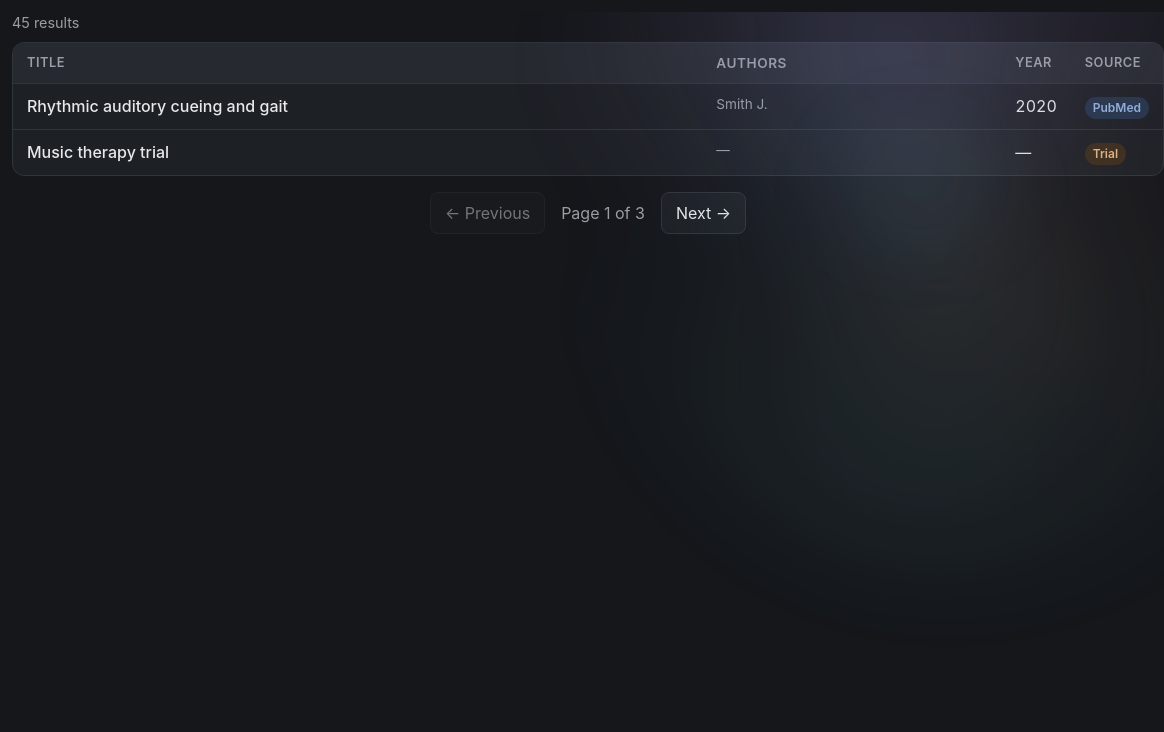
Test: EvidenceTable › expands a row to show the abstract and details
Check: the text "Metronome at 110% of cadence." is not shown
Click the button "Rhythmic auditory cueing and gait".
click(158, 106)  # box [27,94,288,118]
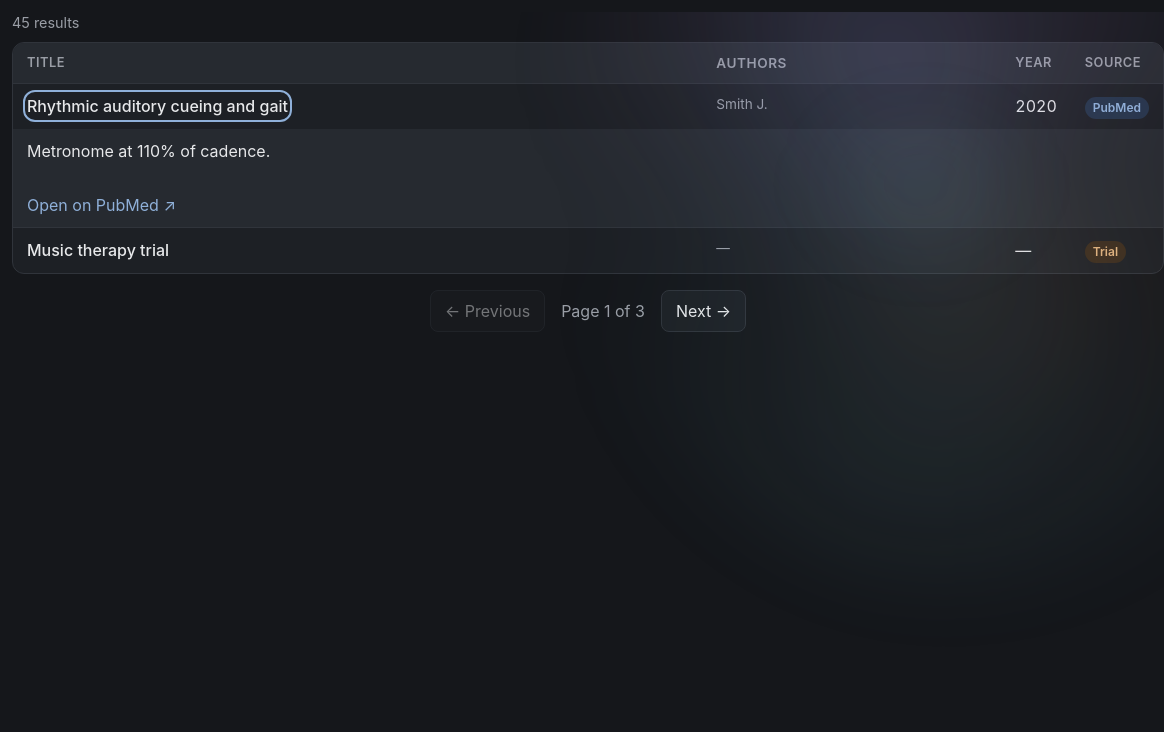
Check: the text "Metronome at 110% of cadence." is shown, box [27,141,270,161]
Click the button "Music therapy trial".
click(98, 250)  # box [27,238,169,262]
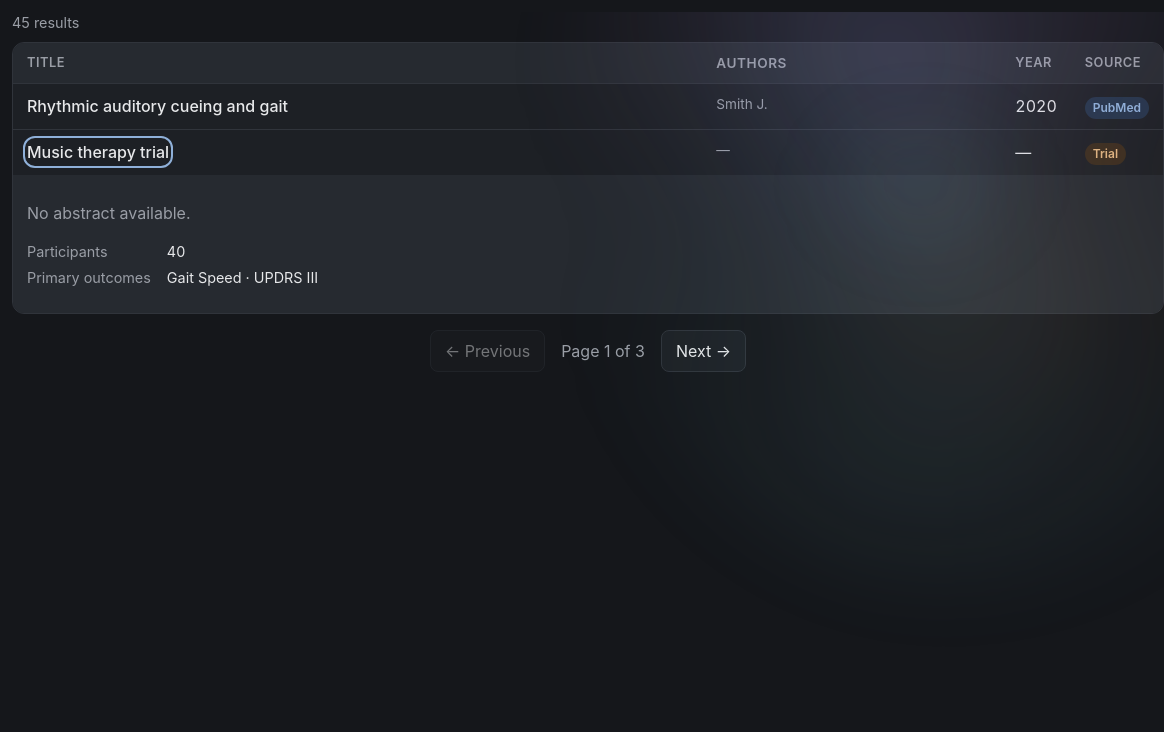
Check: the text "Gait Speed · UPDRS III" is shown, box [167,269,318,286]
Check: the text "40" is shown, box [167,243,185,260]
